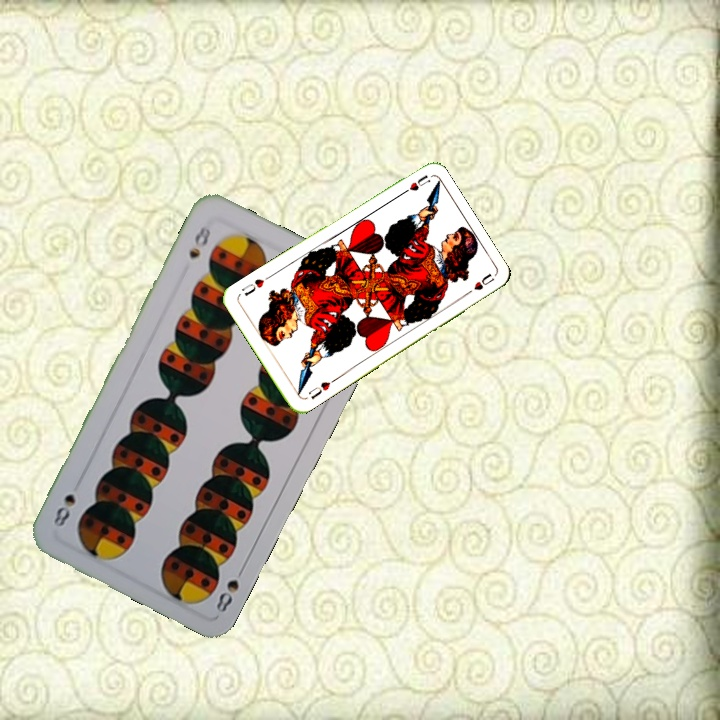HU: (395, 171, 433, 199), (304, 375, 338, 402)
S8: (212, 561, 249, 615), (185, 220, 214, 261)
